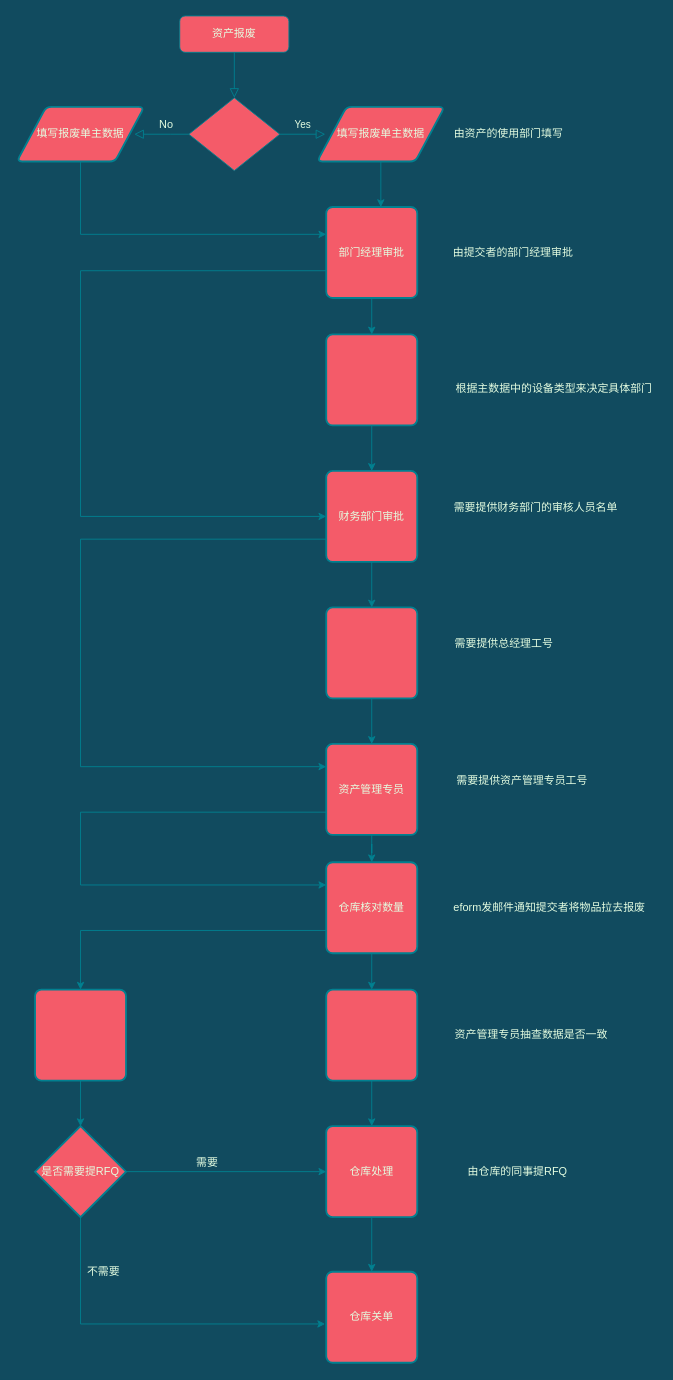
Some shapes in this 673 by 1380 pixel diagram are drawn without their labels. Here are the shapes that lost their labels. From the top down, the box of each, then its label:
(188, 97, 280, 171): 是否是固定资产？
(325, 333, 418, 426): 技术部门审批
(325, 606, 418, 699): 总经理
(34, 988, 126, 1081): SCM抽检
(325, 988, 418, 1081): 财务抽检
